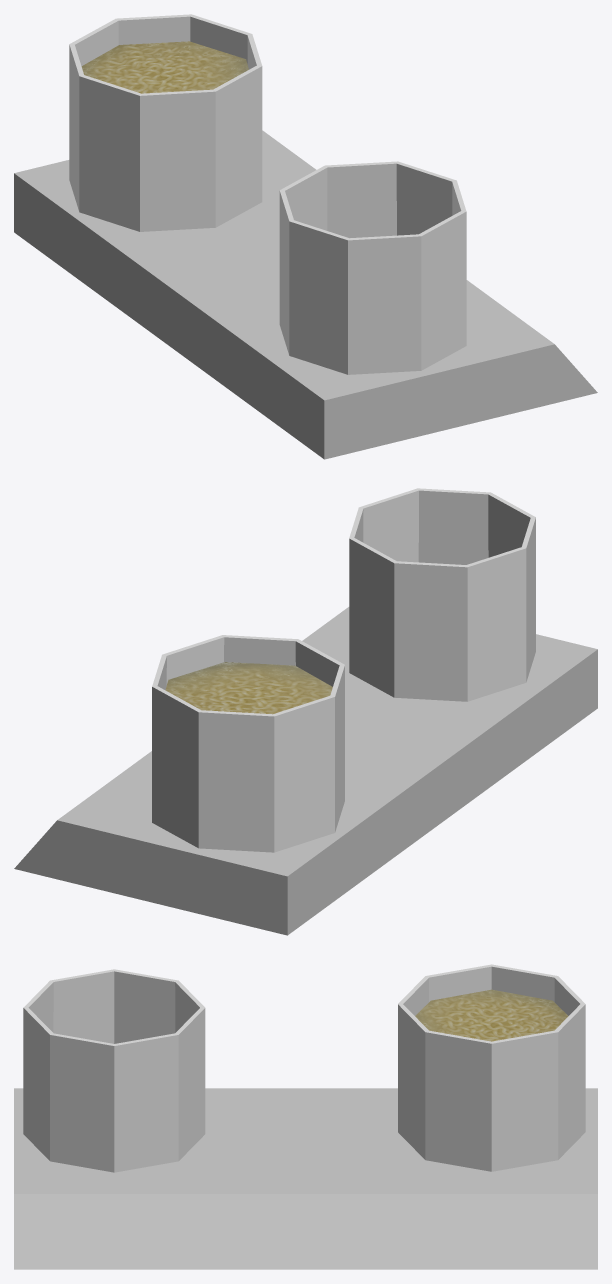
File: kompor revisi.fbx
The picture shows the model from 3 angles, top to bottom: view 1: azimuth 30°, elevation 25°; view 2: azimuth 150°, elevation 25°; view 3: azimuth 270°, elevation 25°; orthographic projection. The views are drawn at different scales.
Visible parts, largest first — view 1: Cube.001, Cylinder.001, Cylinder, Plane; view 2: Cube.001, Cylinder.001, Cylinder, Plane; view 3: Cube.001, Cylinder.001, Cylinder, Plane.
Part boxes in pixels (<box>): Cube.001: <box>14,130,597,459</box>; Cylinder.001: <box>279,161,466,374</box>; Cylinder: <box>69,14,262,231</box>; Plane: <box>81,41,248,93</box>; Cube.001: <box>14,607,597,935</box>; Cylinder.001: <box>349,488,535,701</box>; Cylinder: <box>152,635,344,852</box>; Plane: <box>165,662,332,714</box>; Cube.001: <box>14,1088,597,1269</box>; Cylinder.001: <box>23,969,205,1172</box>; Cylinder: <box>398,964,585,1171</box>; Plane: <box>415,989,568,1041</box>.
Bounding box in the file's own units: 84.92 × 57.93 × 167.
